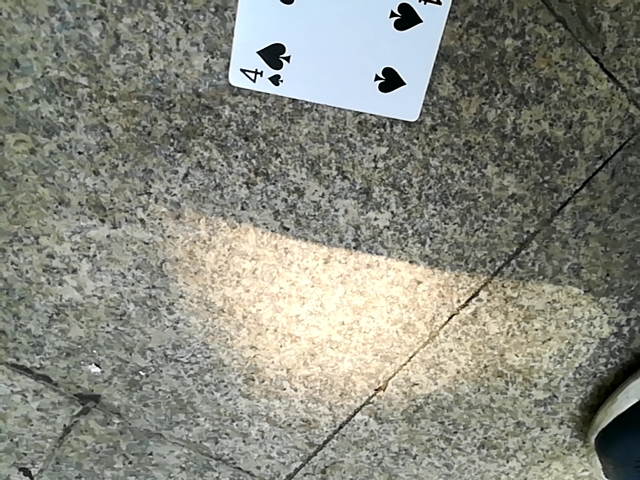ht 4: (220, 2, 463, 118)
